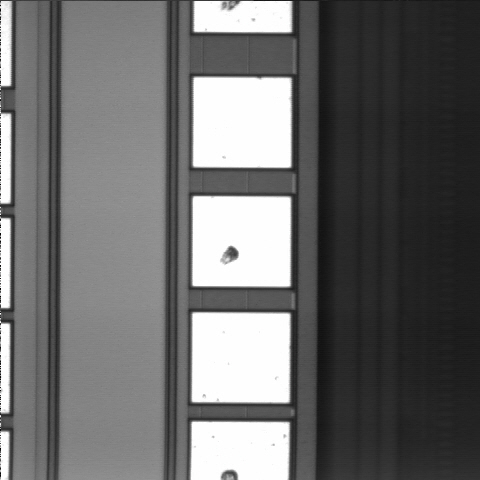pad: (192, 196, 291, 287), (193, 77, 291, 168), (192, 313, 290, 403)
